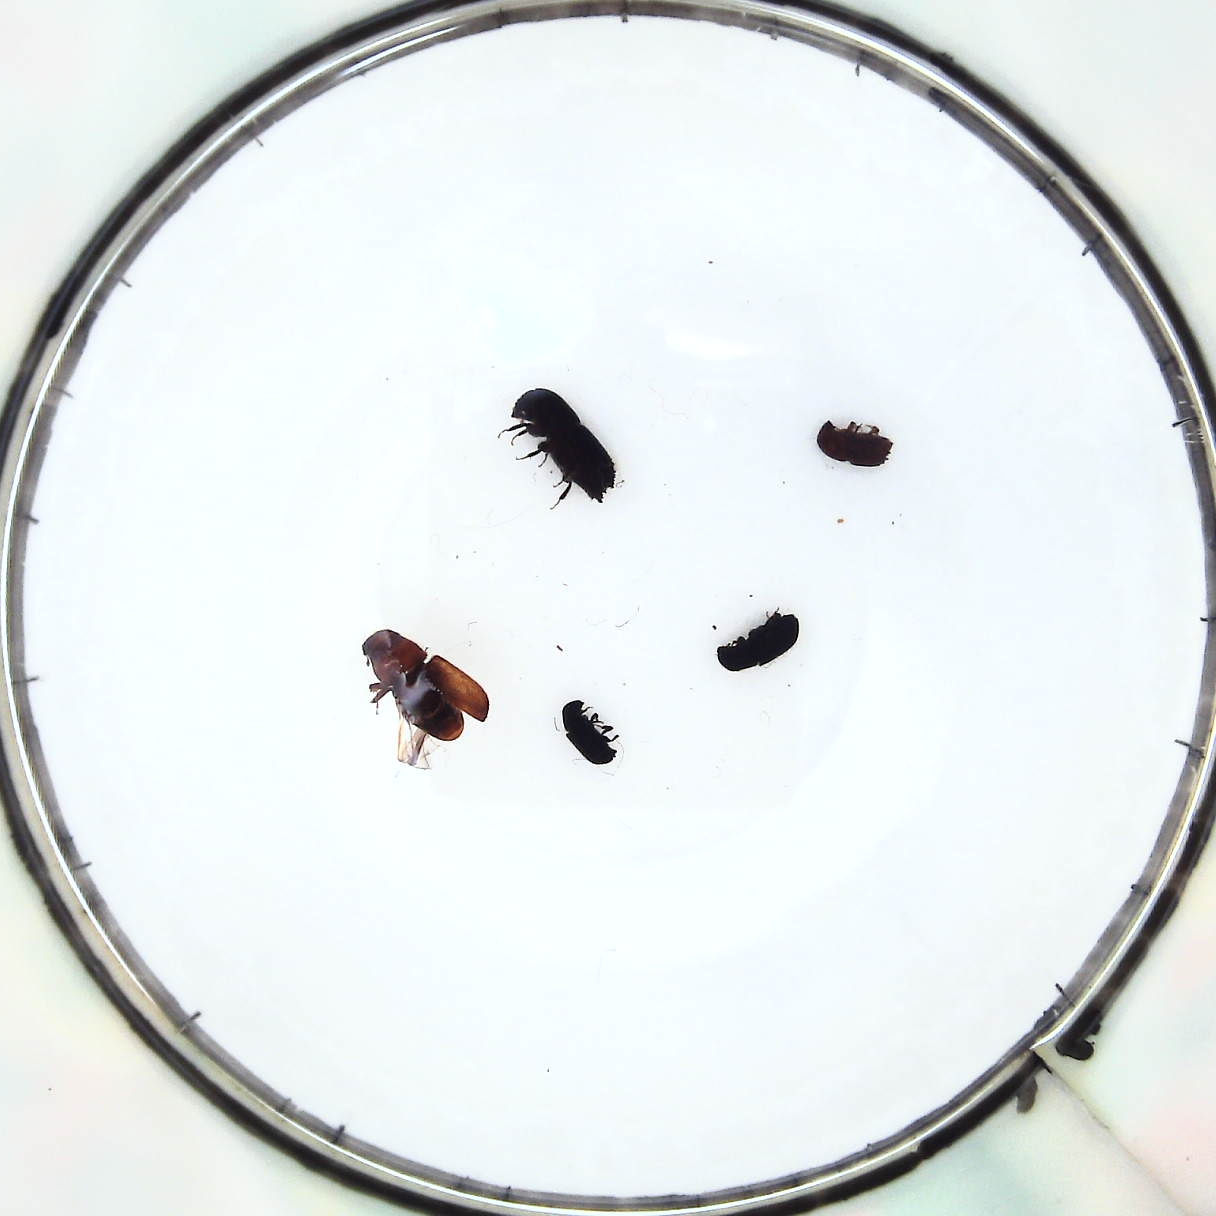Boerner: (509, 384, 614, 506)
Leconte: (353, 626, 489, 758)
Linnaeus: (811, 419, 899, 475)
armandi: (716, 609, 797, 675)
coleoptera: (560, 697, 621, 769)
